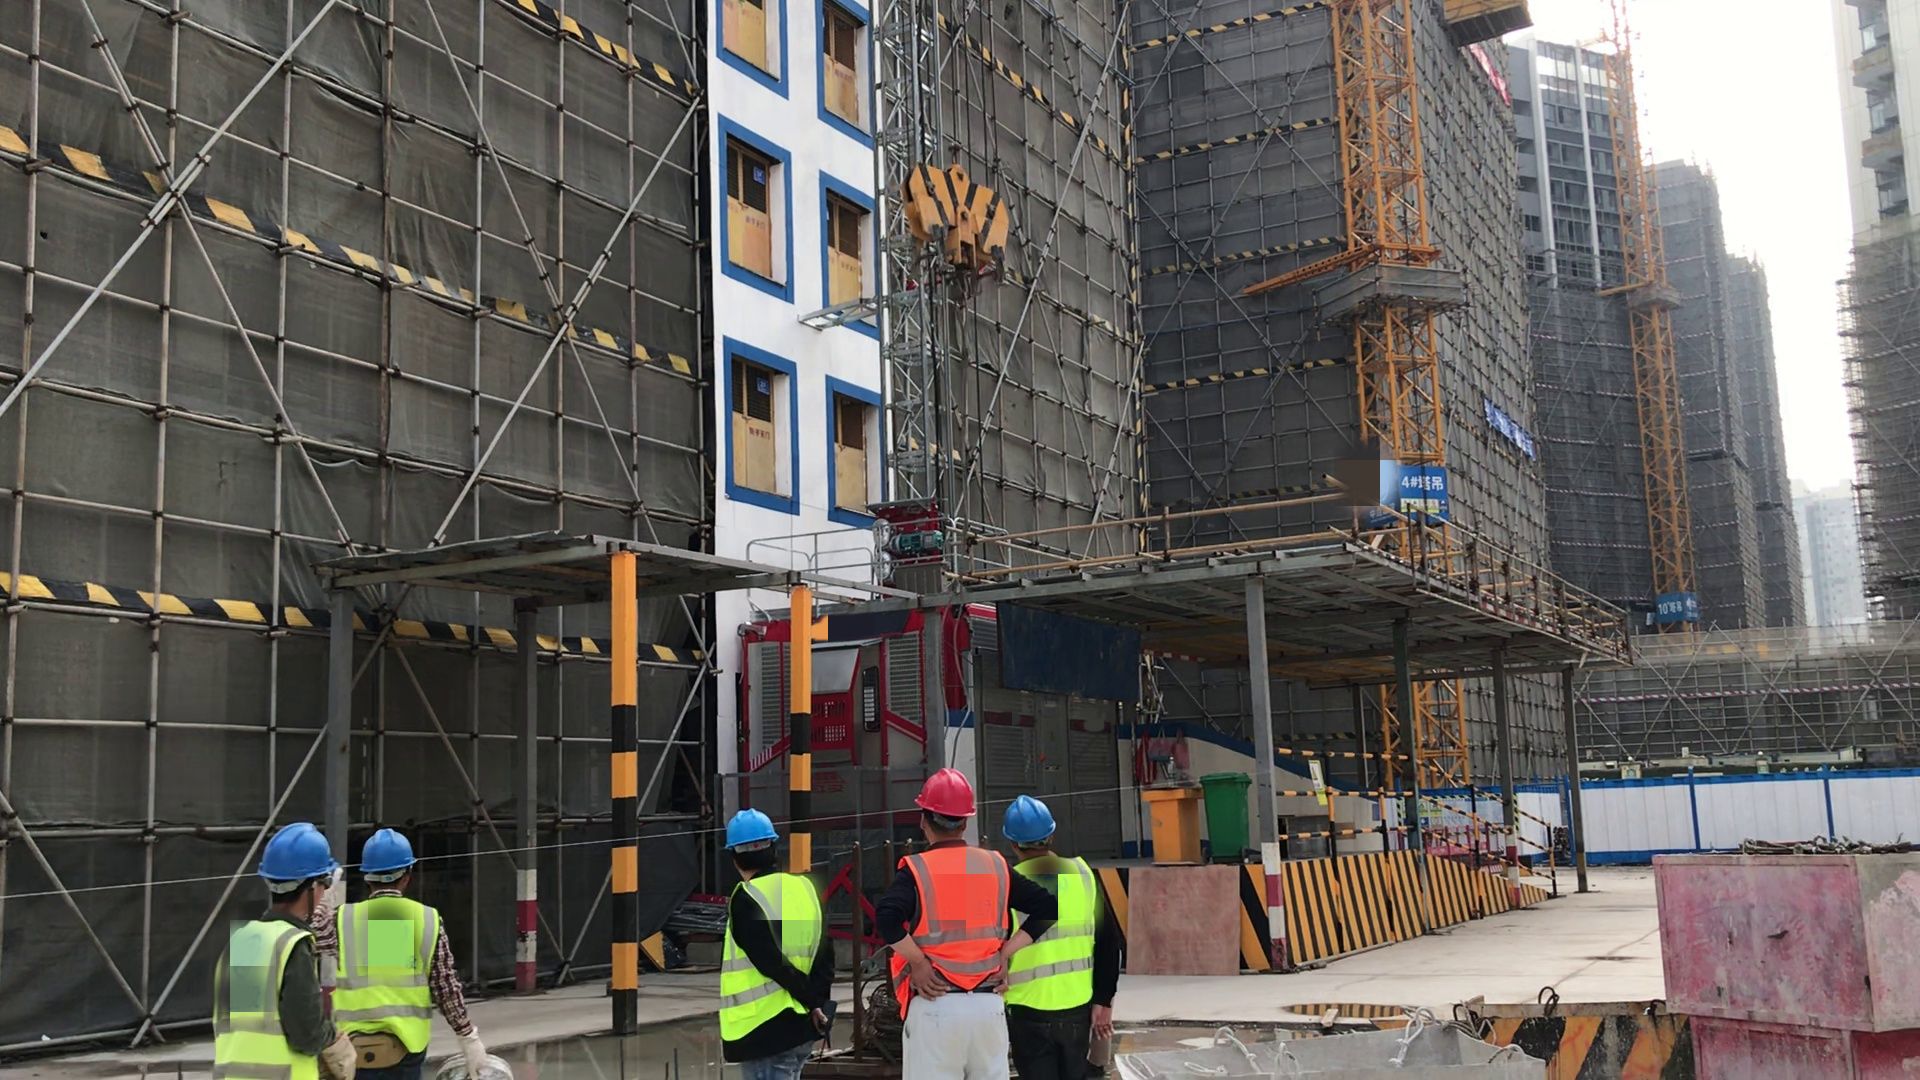helmet: (246, 819, 335, 890), (906, 761, 982, 819), (355, 828, 429, 882), (1004, 795, 1060, 845), (724, 809, 788, 850)
person: (874, 762, 1036, 1080), (343, 822, 505, 1080), (1003, 783, 1128, 1080), (714, 806, 842, 1080), (211, 815, 343, 1080)
vest: (876, 842, 1010, 1013), (207, 913, 336, 1080), (725, 866, 825, 1049), (341, 899, 448, 1065), (1013, 855, 1106, 1020)
